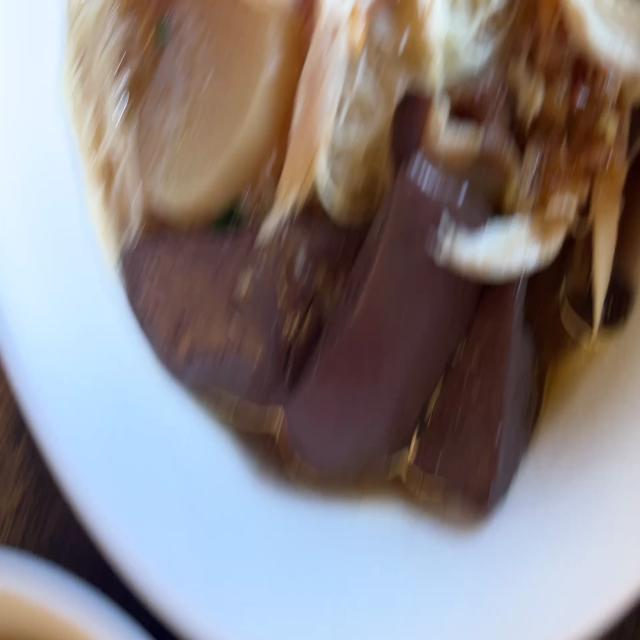noodle: (38, 0, 640, 524)
